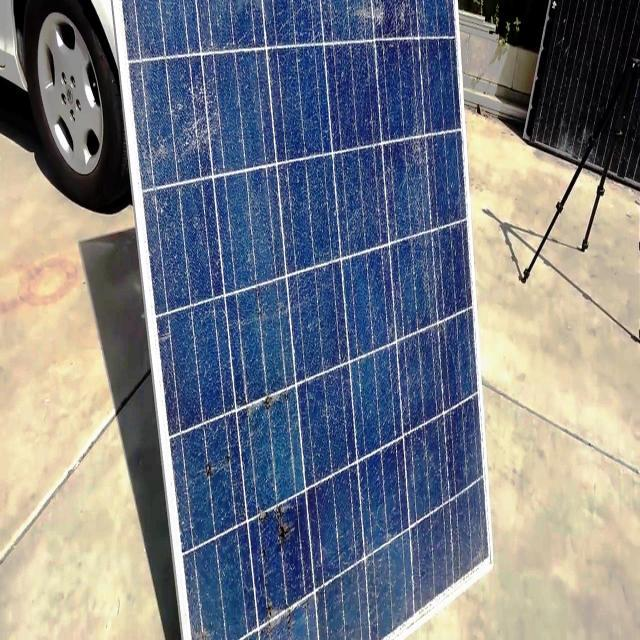faulty: (119, 2, 493, 639)
